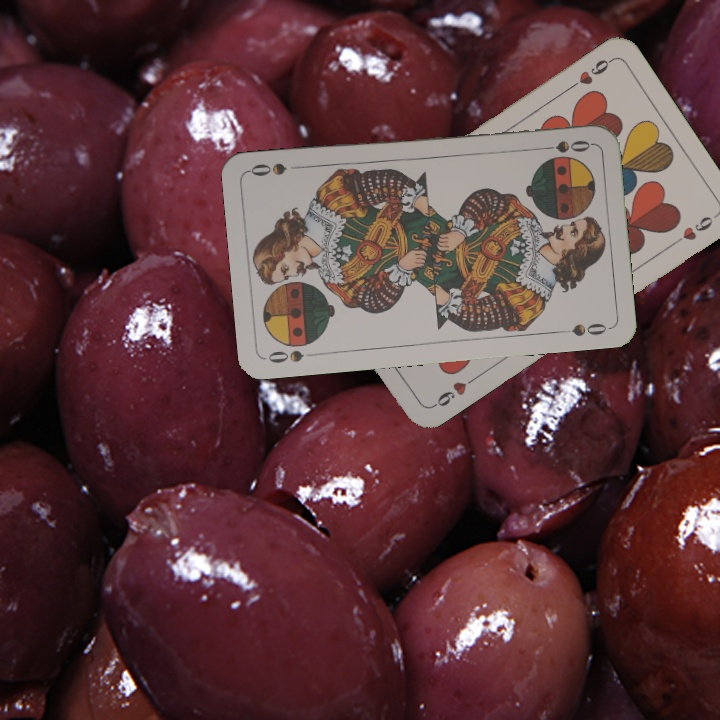H9: (563, 55, 615, 93), (427, 373, 479, 411)
SO: (263, 346, 322, 366), (535, 136, 594, 155)
